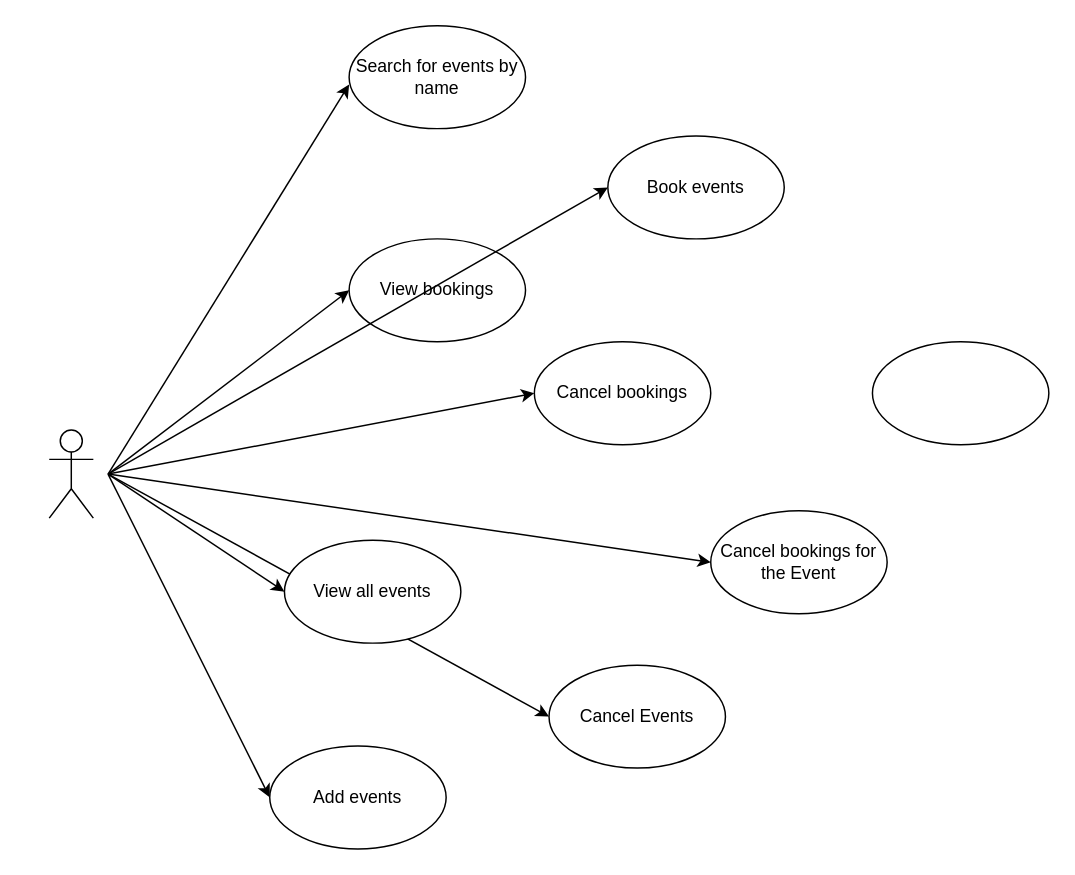
This 1075x875 diagram has some shape labels left out. The box of each missing label's shape, as (x1, y1, x2, y2) in pixels:
Login: (871, 340, 1049, 445)
Venue Staff: (48, 429, 93, 518)
